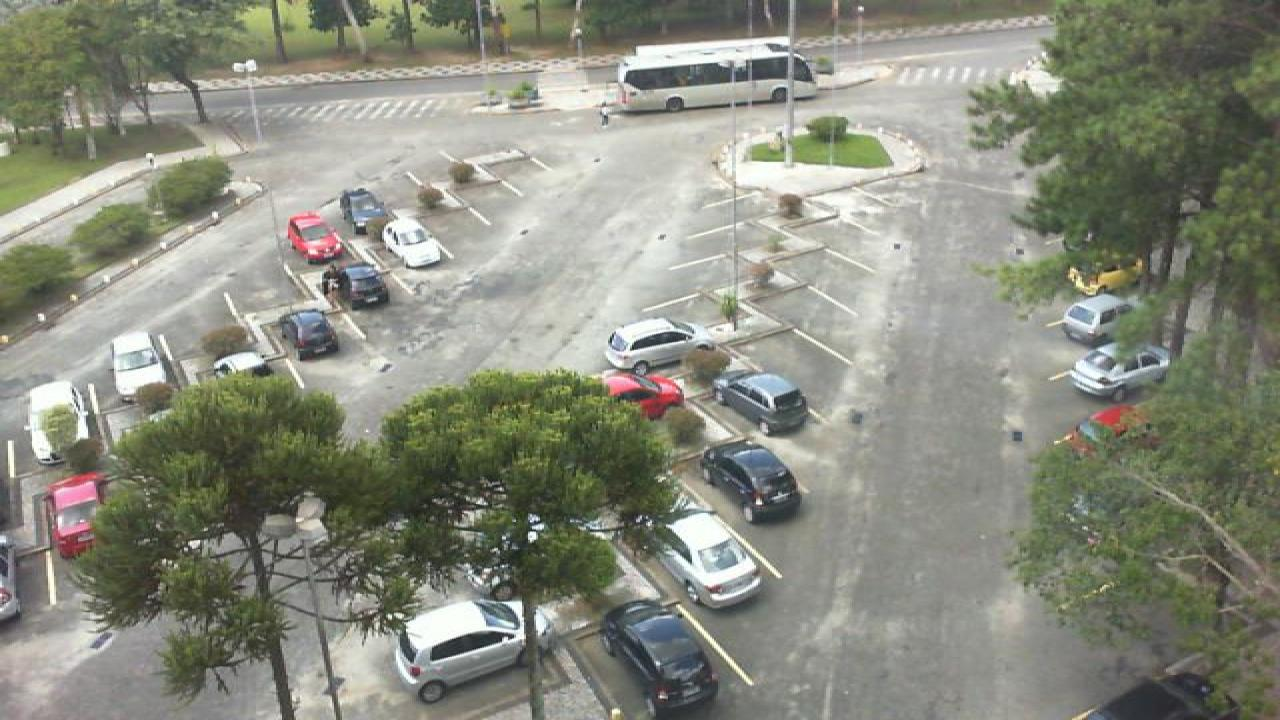Car: (390, 598, 538, 706), (598, 602, 722, 720), (642, 512, 768, 611), (702, 440, 802, 525), (1070, 670, 1240, 720), (710, 371, 810, 436), (1068, 341, 1178, 398), (602, 317, 704, 377), (1054, 400, 1158, 456), (46, 471, 110, 559), (24, 380, 90, 465), (106, 328, 172, 400), (596, 371, 686, 421), (1056, 292, 1136, 347), (278, 307, 342, 362), (318, 261, 390, 309), (286, 210, 346, 264), (382, 217, 444, 269), (336, 187, 394, 236), (0, 532, 22, 621), (210, 352, 274, 379)
